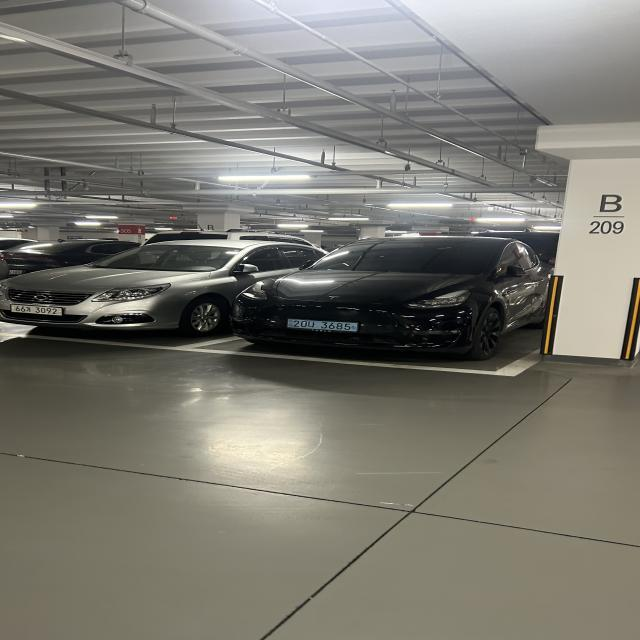car: (264, 315, 385, 338)
carev: (350, 321, 361, 334), (286, 318, 295, 330)
